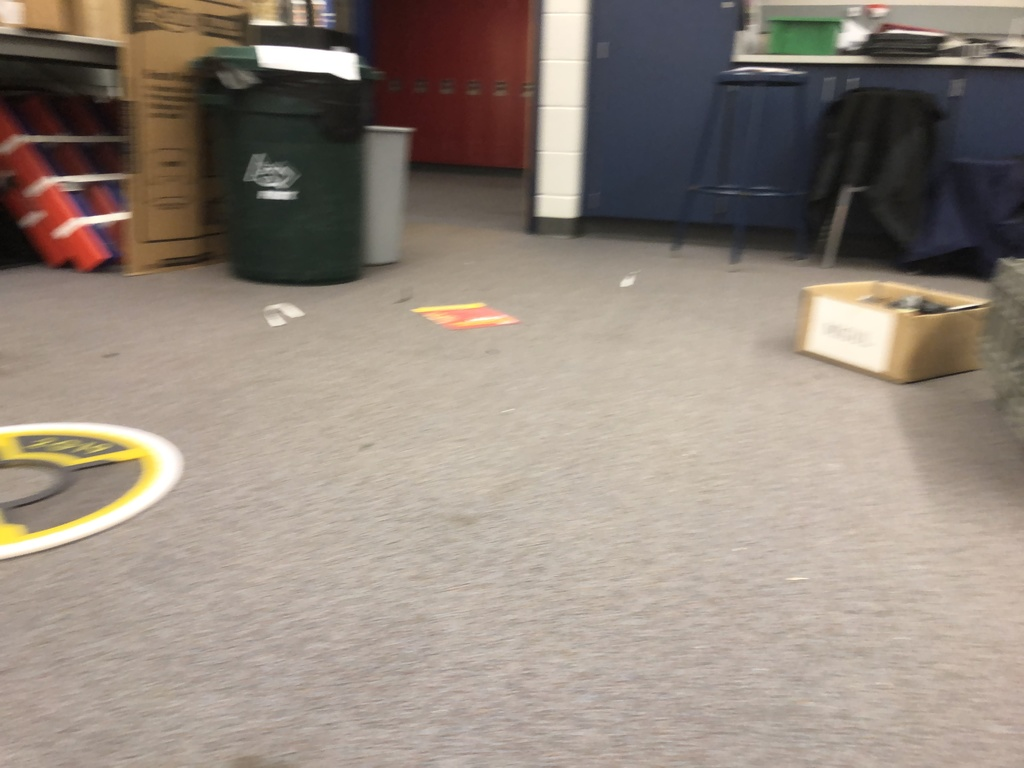hatch_panel: (1, 403, 189, 570)
